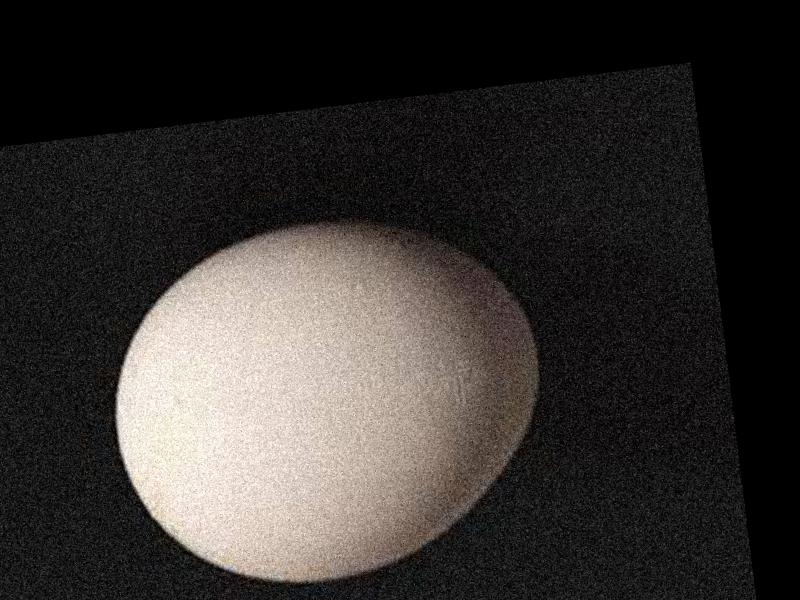Eggs: (92, 202, 559, 600)
